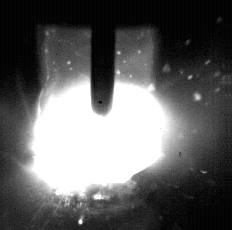arame: (92, 0, 116, 116)
poca: (31, 0, 164, 230)
